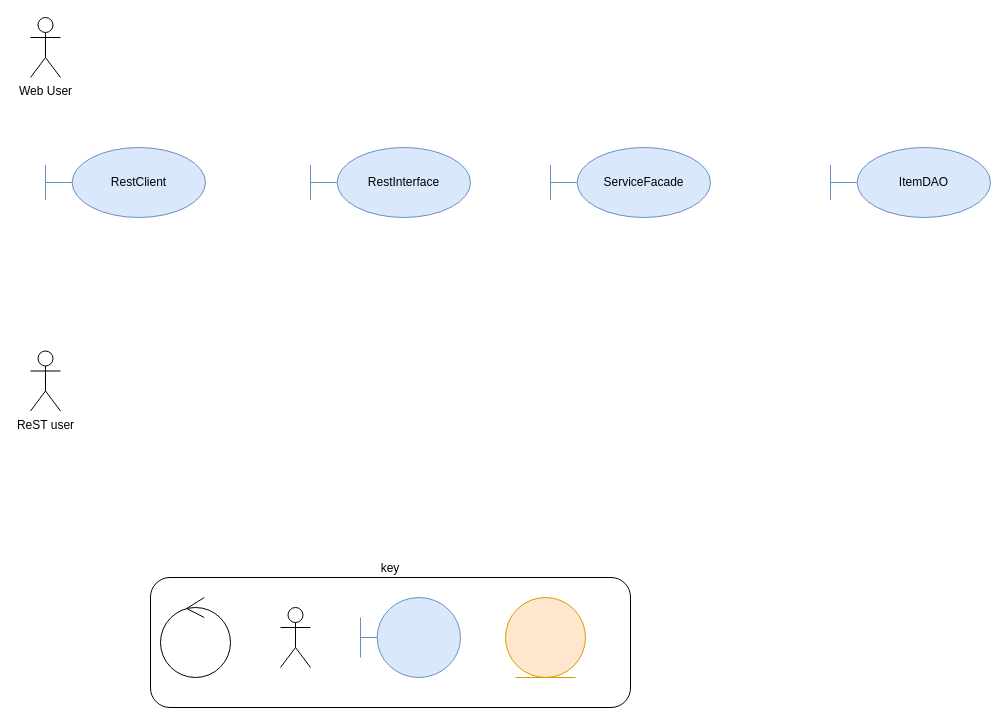
Image size: 1008x725. Some labels were removed from this diagram. Each missing label, with the box of its shape:
Actor: (280, 606, 310, 668)
Boundary Object: (360, 596, 460, 678)
Control Object: (160, 596, 230, 678)
Entity/dto Object: (504, 596, 586, 678)
